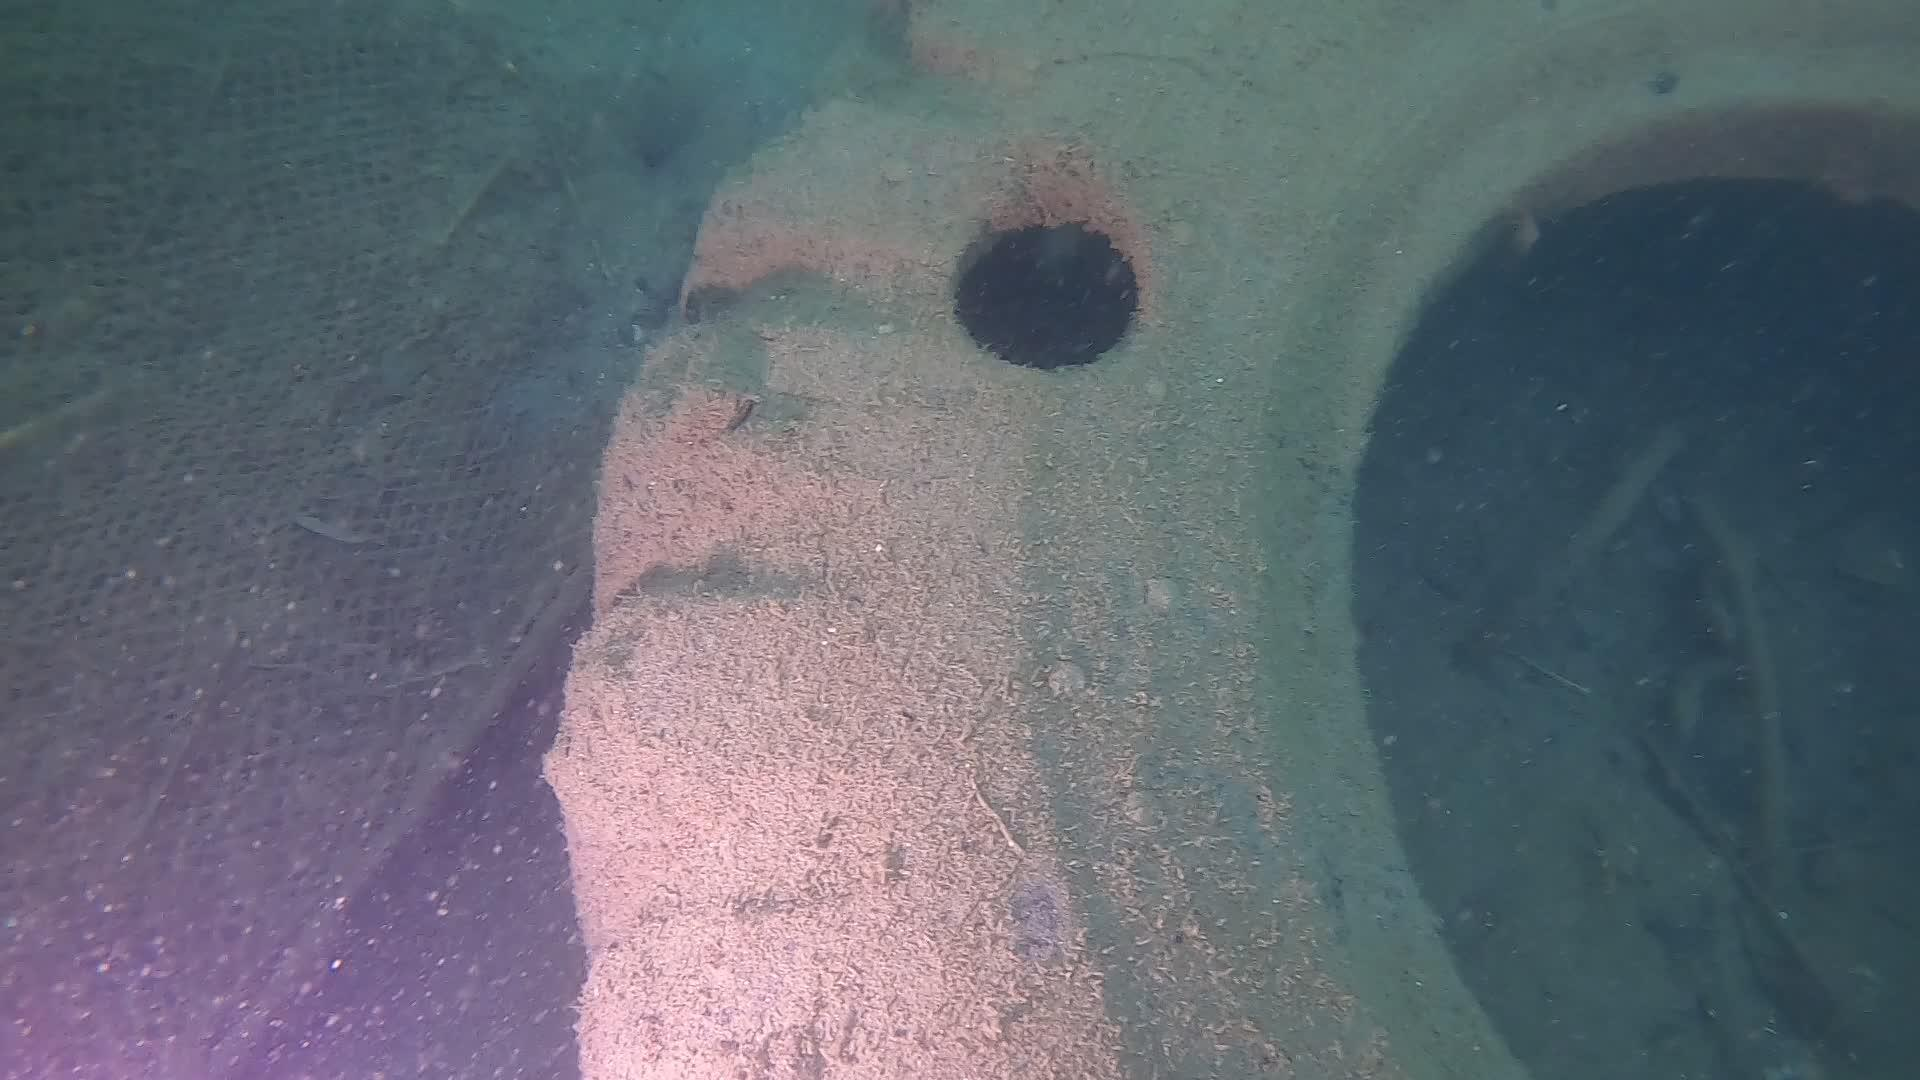fish net: (0, 0, 527, 924)
tire: (545, 0, 1920, 1080)
